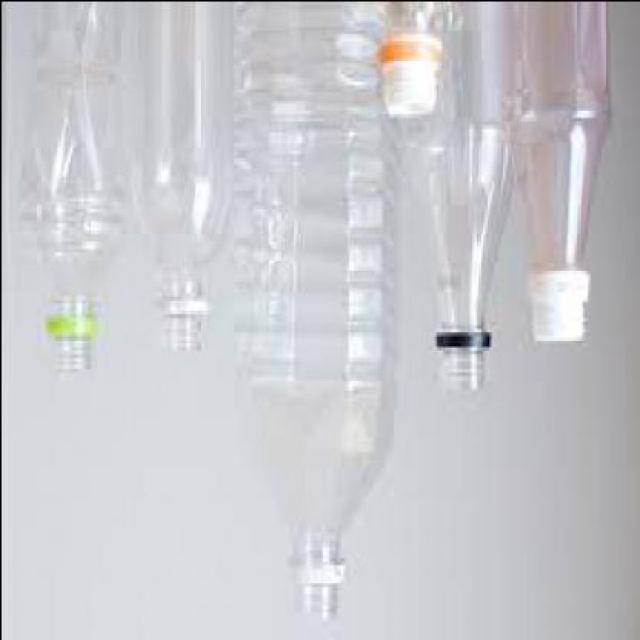PLASTIC: (232, 5, 398, 626), (8, 6, 122, 368), (506, 3, 612, 345), (418, 0, 511, 388), (129, 5, 232, 352), (375, 6, 445, 123), (527, 270, 592, 340)
